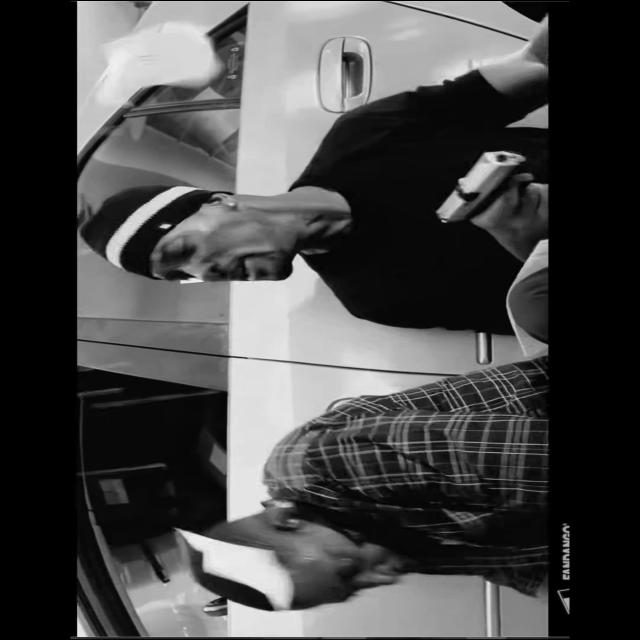weapons: (420, 144, 550, 232)
